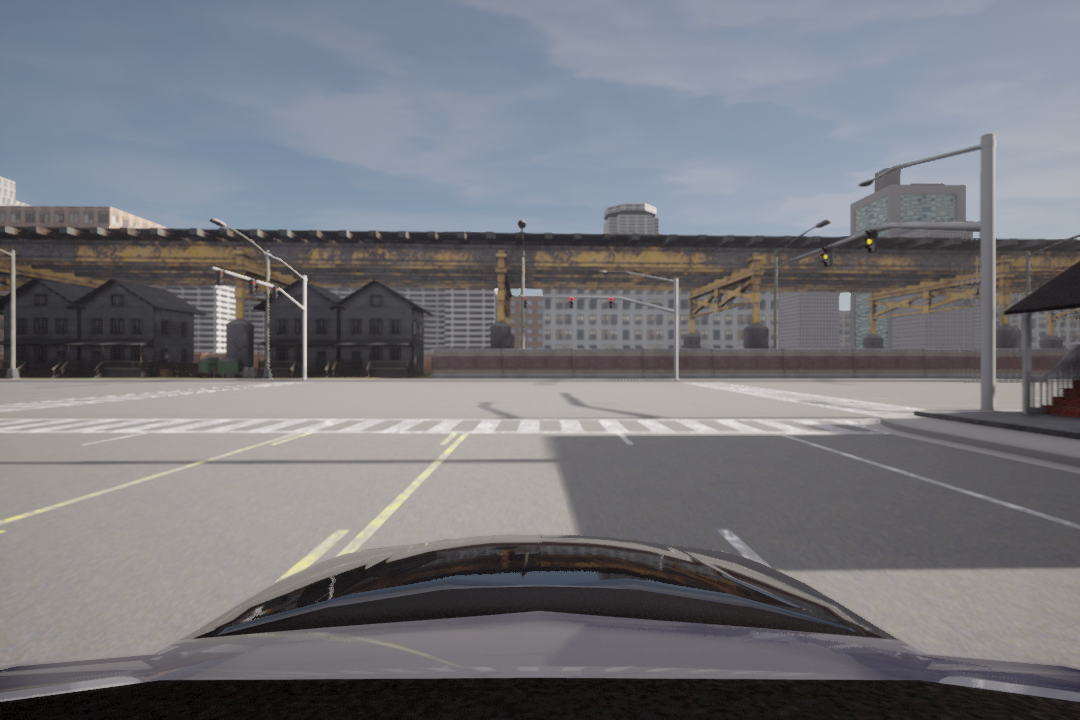TrafficLight: (815, 241, 835, 270), (864, 226, 878, 256)
walkside: (14, 411, 891, 448)
